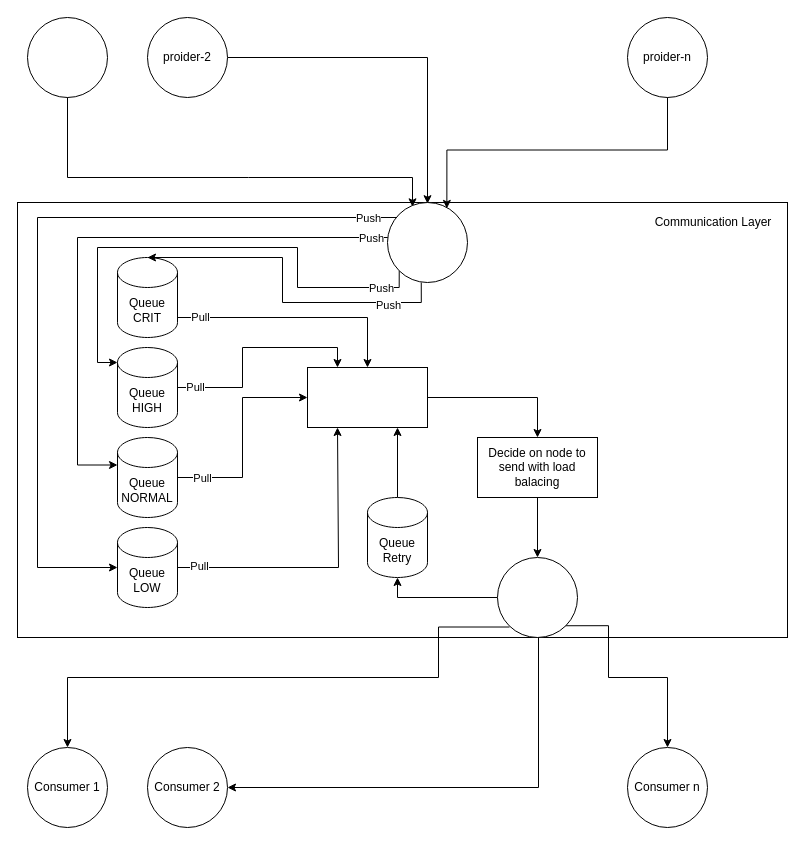
This 805x845 diagram has some shape labels left out. Here are the shapes that lost their labels. From the top down, the centre of each, then its label:
the point at 67,57: proider-1
the point at 427,242: Grpc Server
the point at 367,397: Decide on Weighted Pull
the point at 537,597: Grpc Client
